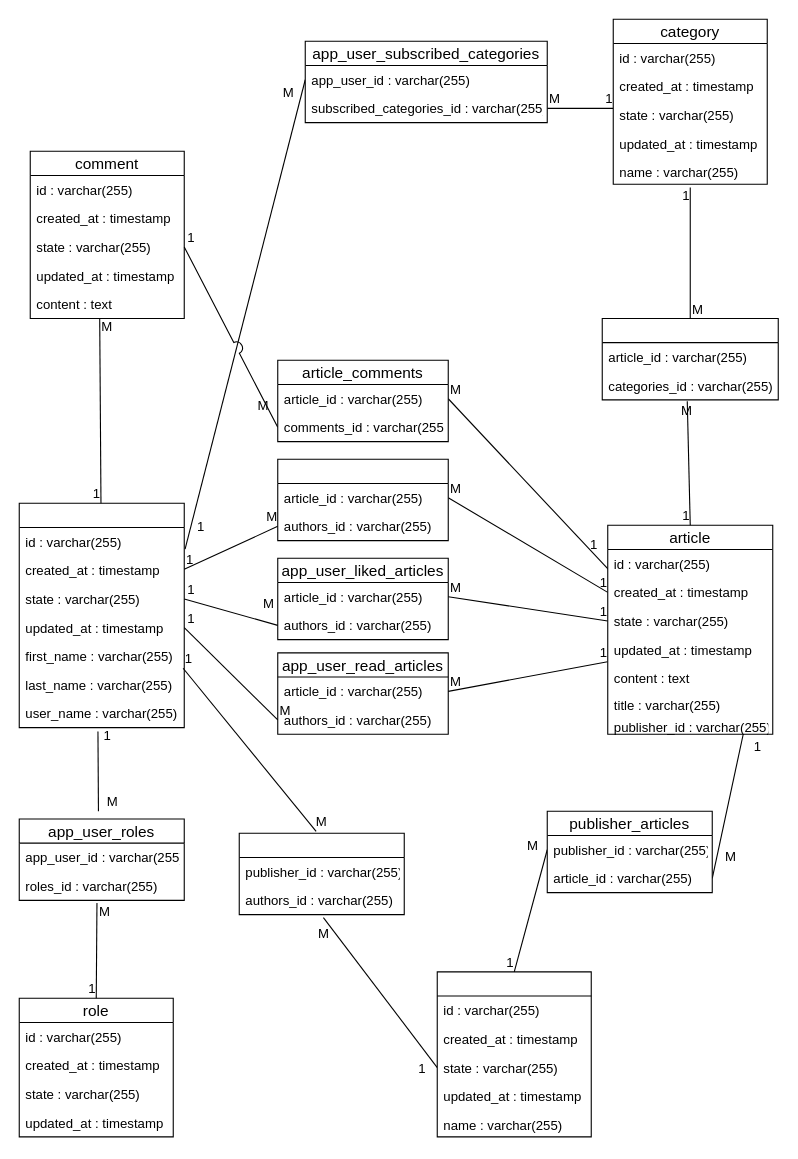
Some shapes in this 798 by 1159 pixel diagram are drawn without their labels. The box of each missing label's shape, as (x1, y1, x2, y2) in pixels:
app_user: (18, 502, 184, 728)
article_authors: (277, 458, 448, 541)
article_categories: (601, 317, 778, 400)
publisher: (436, 971, 591, 1137)
publisher_authors: (238, 832, 404, 915)
